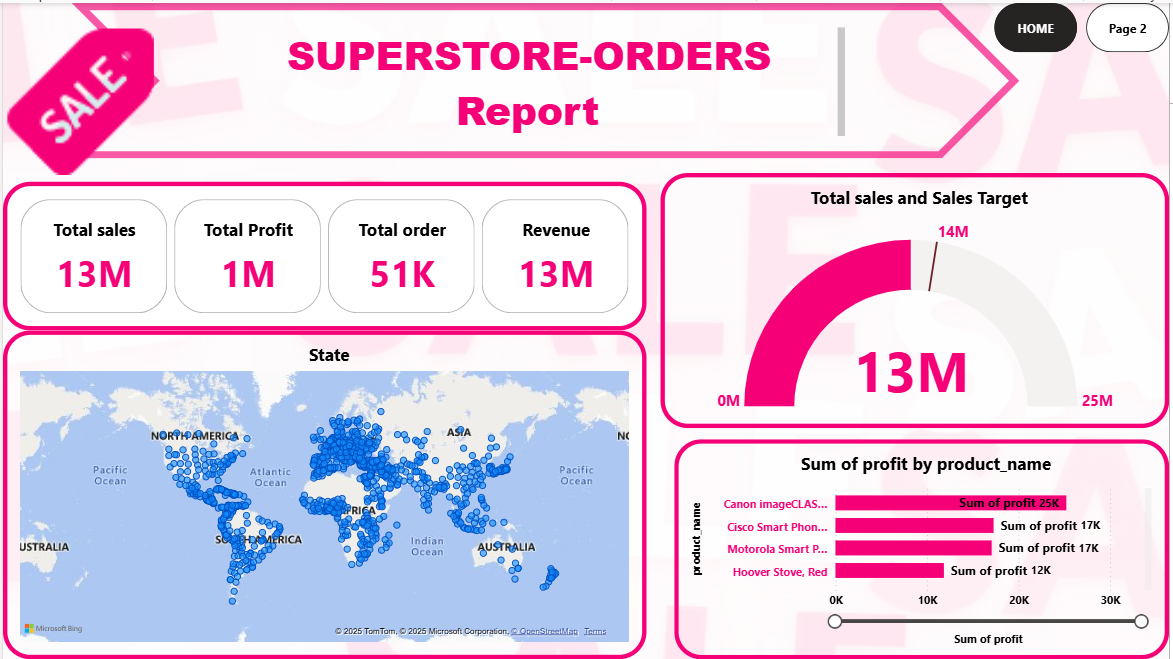

The dashboard page shown, as its layout file describes it:
{"tool":"powerbi","page":{"name":"HOME","canvas":[1280,720],"ordinal":0},"visuals":[{"type":"shape","box":[75.4,0,1040.2,170.7],"z":0,"group":"g1"},{"type":"cardVisual","fields":{"Data":["SuperStoreOrders.Total sales","SuperStoreOrders.Total Profit","SuperStoreOrders.Total order","SuperStoreOrders.Revenue"]},"box":[0,196.2,706.7,163.3],"z":0},{"type":"group","id":"g1","title":"Group 1","box":[0,0,1115.6,216.8],"z":1000},{"type":"textbox","box":[234.2,22,694.3,130.4],"z":1000,"group":"g1"},{"type":"image","box":[0,0,170.7,216.8],"z":2000,"group":"g1"},{"type":"gauge","fields":{"Y":["SuperStoreOrders.Total sales"],"TargetValue":["SuperStoreOrders.Sales Target"]},"box":[721.8,186.6,558.5,279.9],"z":2000},{"type":"map","title":"State","fields":{"Category":["SuperStoreOrders.state"]},"box":[0,359.5,706.7,360.9],"z":3000},{"type":"barChart","fields":{"Y":["Sum(SuperStoreOrders.profit)"],"Category":["SuperStoreOrders.product_name"]},"box":[736.9,478.9,543.4,241.5],"z":4000},{"type":"pageNavigator","box":[1088.2,0,192.1,54.9],"z":5000}]}

Visuals, with their boxes in screenshot pixels (x1, y1, x2, y2), scaled from the page's 1280x720 canvas onto the 1173x659 screenshot:
shape: region(69, 0, 1022, 156)
cardVisual - SuperStoreOrders.Total sales x SuperStoreOrders.Total Profit: region(0, 180, 648, 329)
"Group 1" group: region(0, 0, 1022, 198)
textbox: region(215, 20, 851, 139)
image: region(0, 0, 156, 198)
gauge - SuperStoreOrders.Total sales x SuperStoreOrders.Sales Target: region(661, 171, 1172, 427)
"State" map: region(0, 329, 648, 658)
barChart - Sum(SuperStoreOrders.profit) x SuperStoreOrders.product_name: region(675, 438, 1172, 658)
pageNavigator: region(997, 0, 1172, 50)
